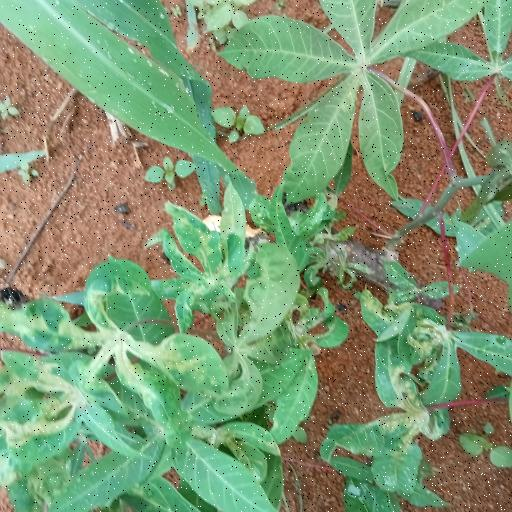Cassava_Mosaic: (224, 0, 477, 176), (0, 270, 227, 445), (336, 294, 508, 461)
